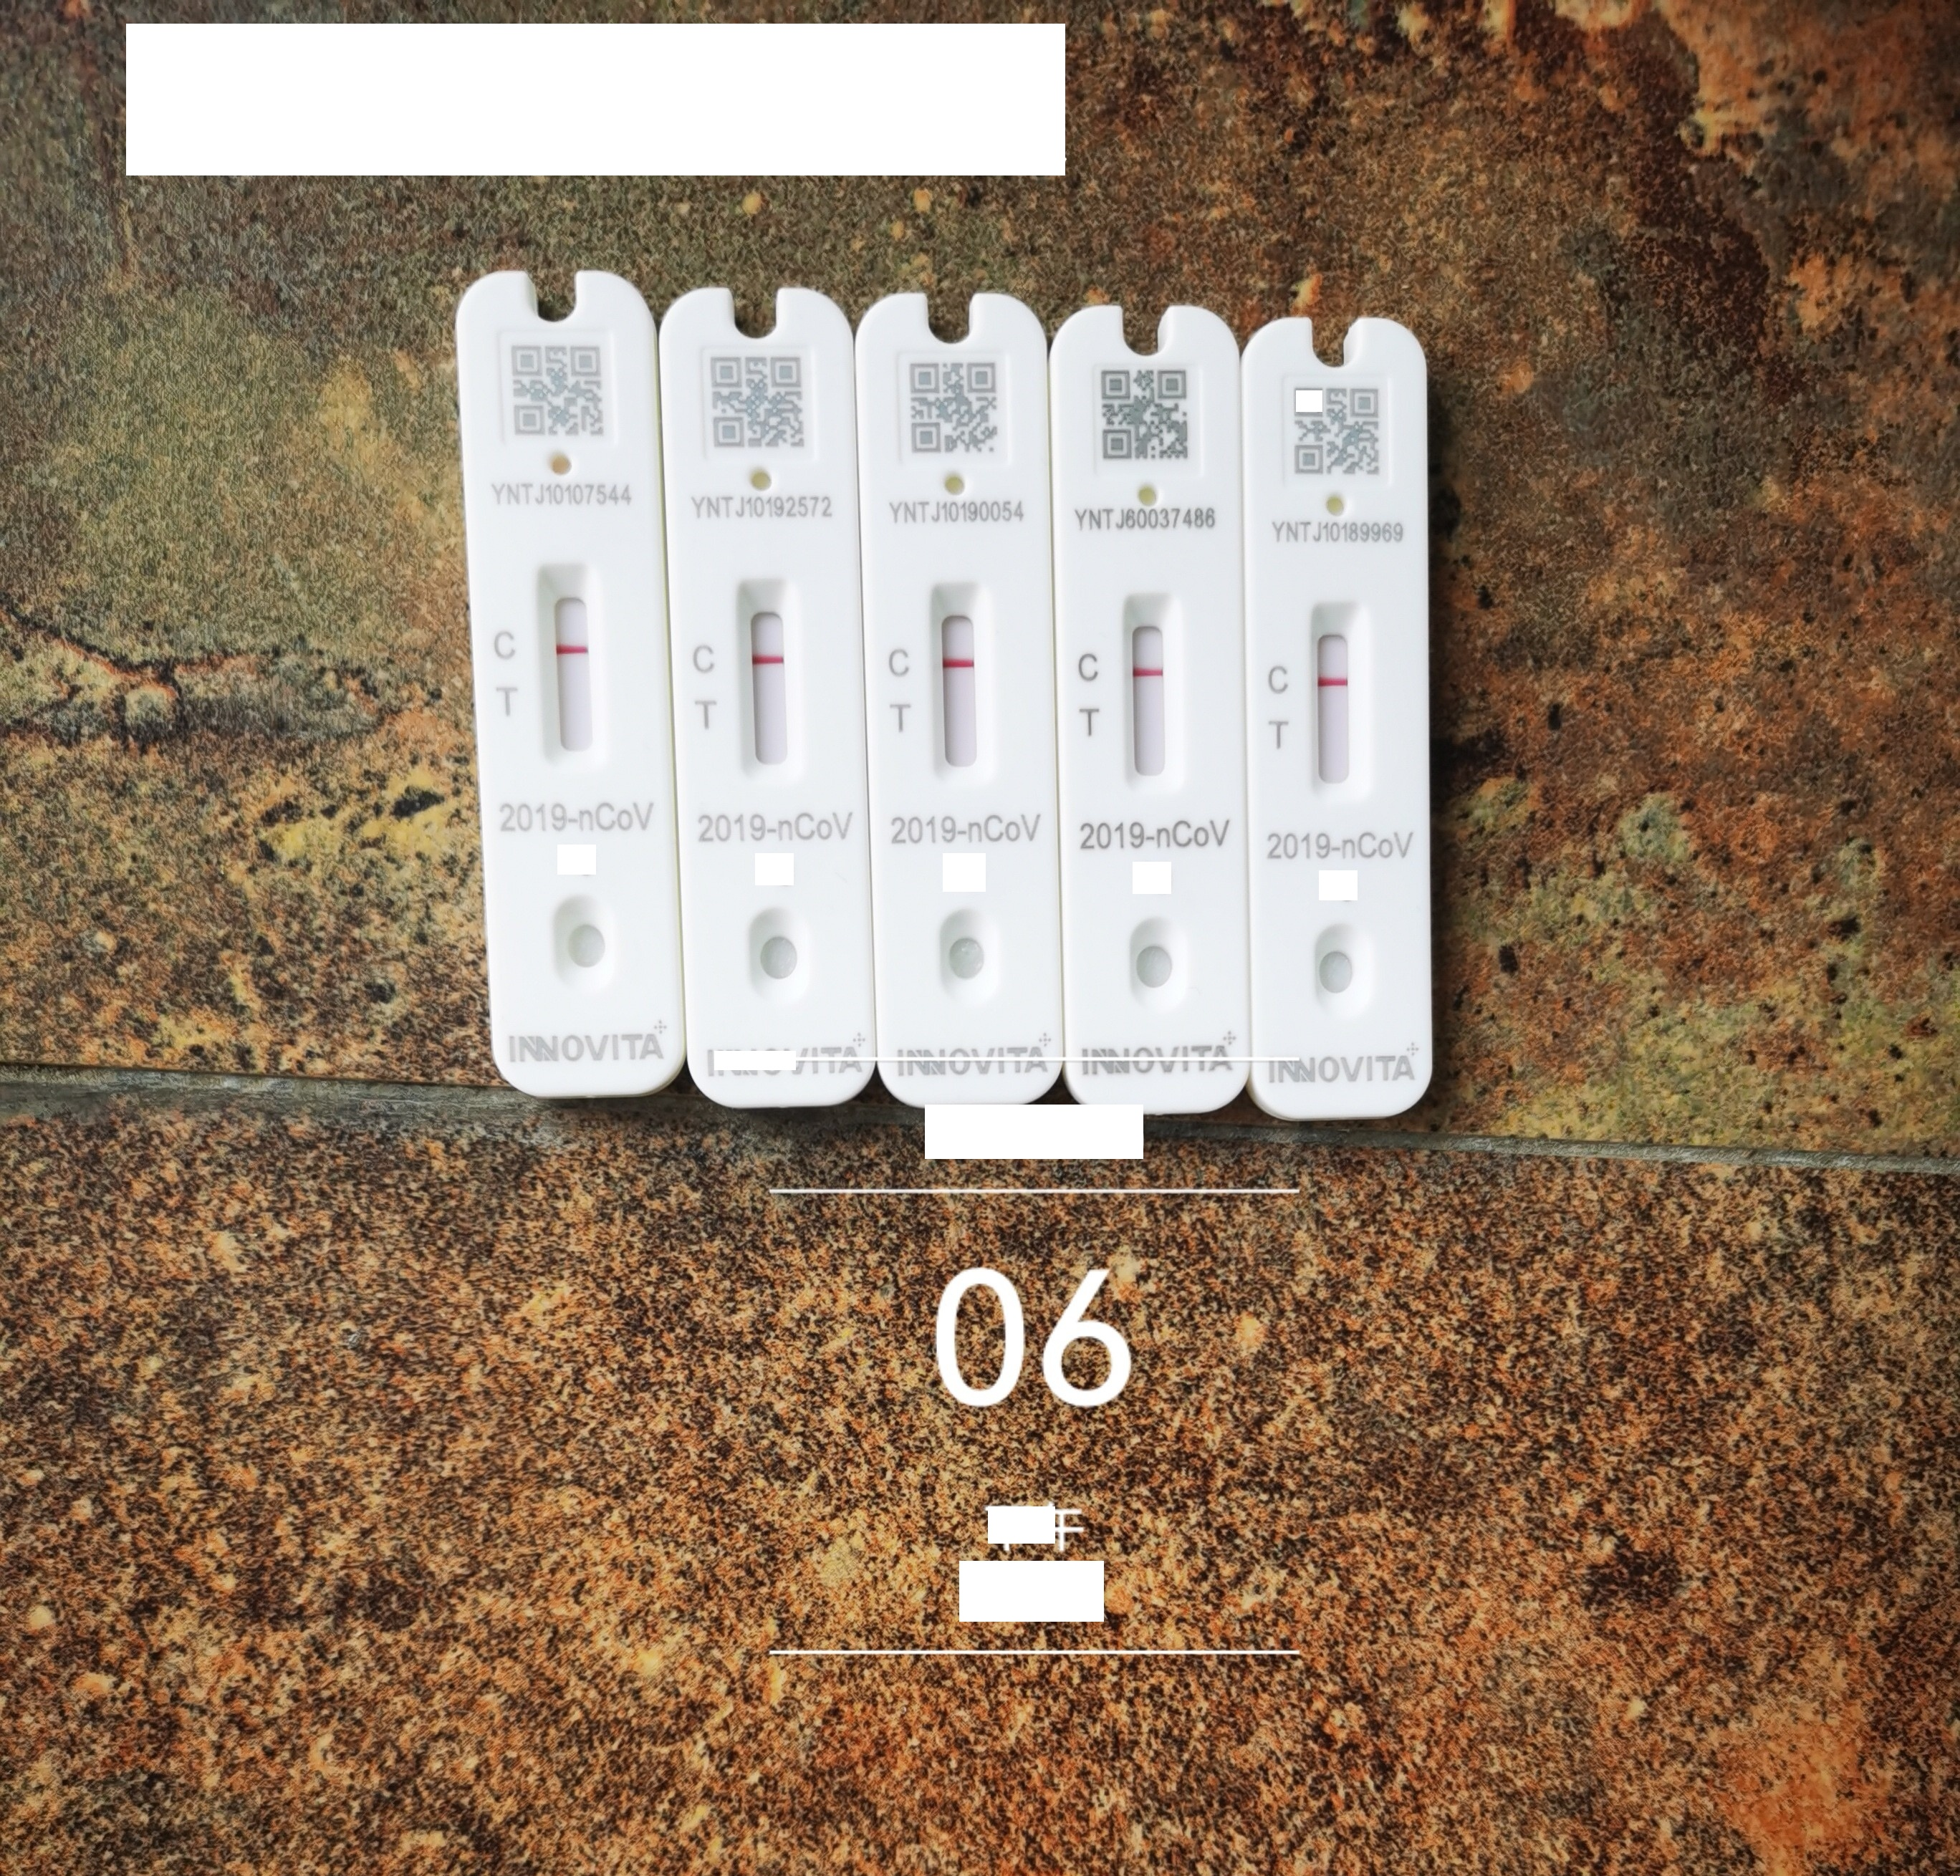negative: (924, 579, 992, 780), (534, 556, 600, 758), (1118, 586, 1181, 789), (735, 574, 798, 775), (1306, 598, 1363, 791)
